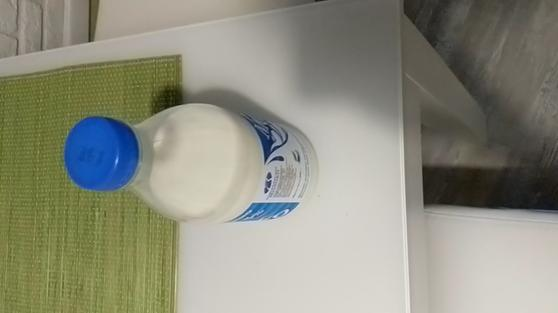milk: (55, 97, 336, 234)
